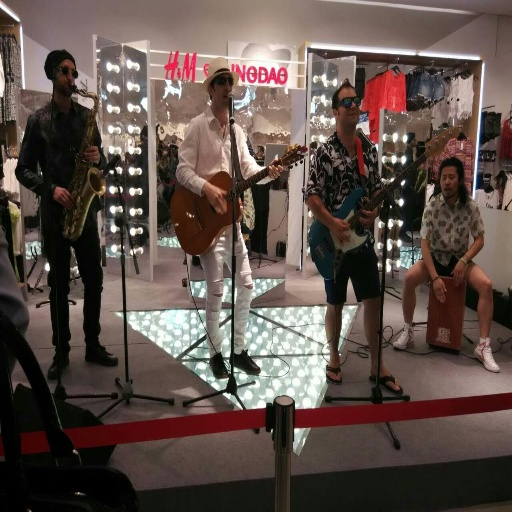hand: (204, 181, 227, 215), (52, 185, 78, 209), (358, 196, 377, 227), (328, 218, 351, 243), (265, 156, 284, 181), (449, 260, 464, 288), (433, 278, 447, 306), (83, 145, 100, 165)
